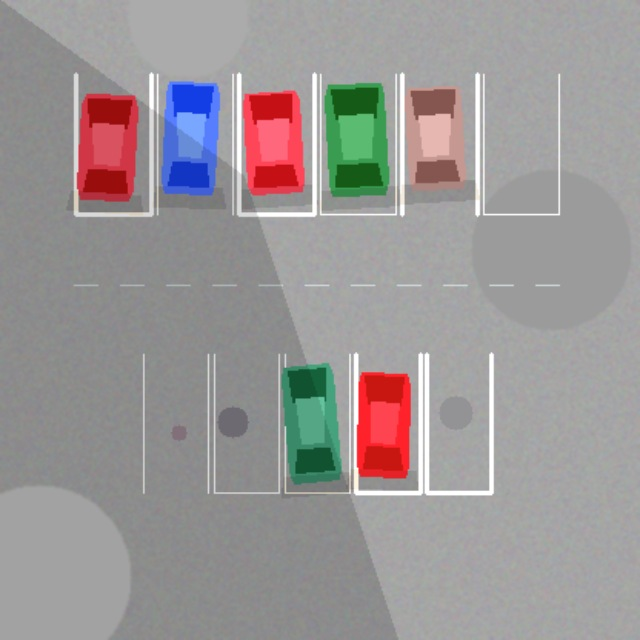space-empty: (483, 74, 558, 214), (143, 354, 208, 492), (426, 354, 491, 492), (214, 354, 278, 492)
space-occupied: (75, 74, 151, 214), (238, 74, 314, 214), (157, 74, 232, 214), (320, 74, 395, 214), (402, 74, 477, 214), (355, 354, 420, 492), (285, 354, 349, 492)
